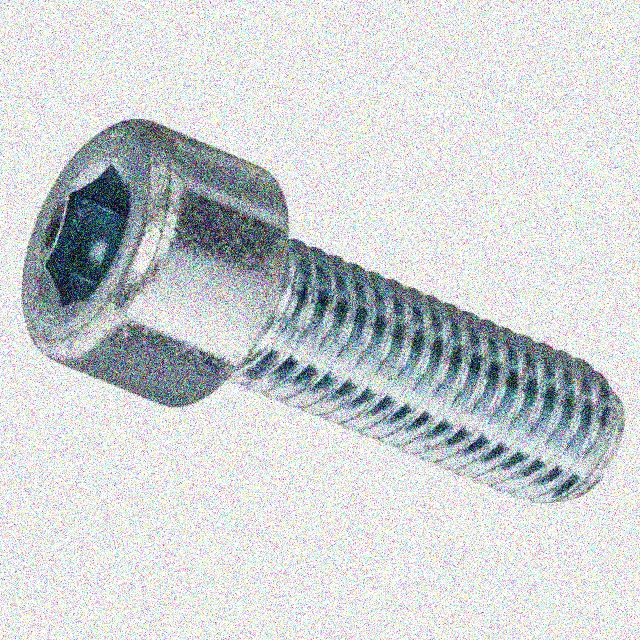allen: (19, 118, 174, 358)
